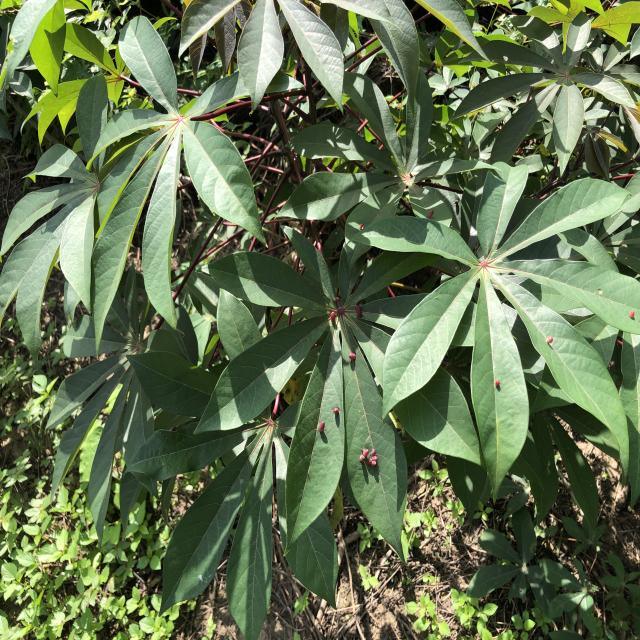Mosca: (319, 279, 369, 322), (529, 323, 560, 363), (389, 163, 422, 195), (349, 446, 380, 476), (314, 400, 342, 433), (330, 344, 361, 363), (627, 296, 640, 332), (489, 371, 503, 390)
